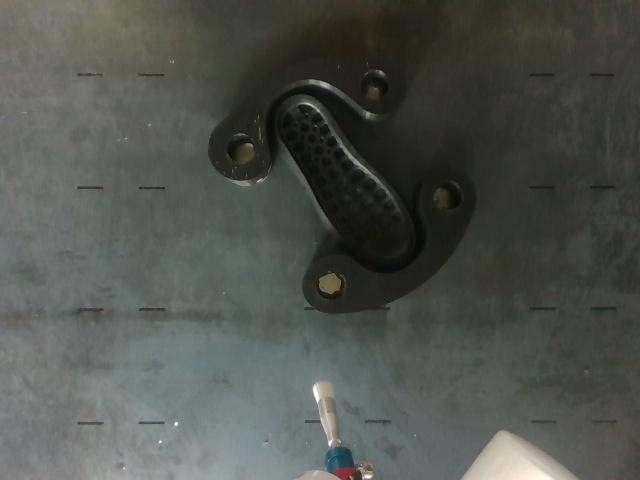shoes: (276, 94, 414, 261)
